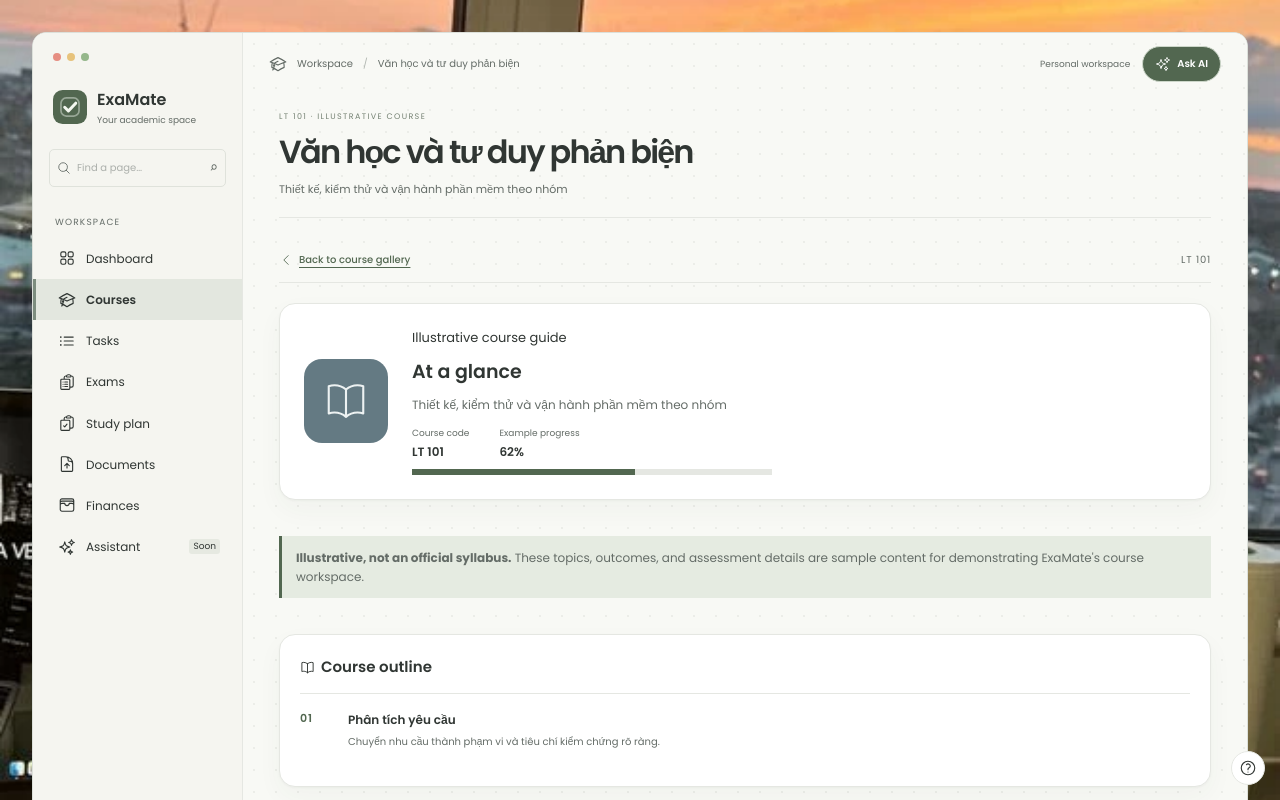
Test: Academic workspace › returns from a course detail to the gallery with a visible back link
The image size is (1280, 800).
Step 1. Click the link "Back to course gallery" → [345, 260], box [279,252,410,267]
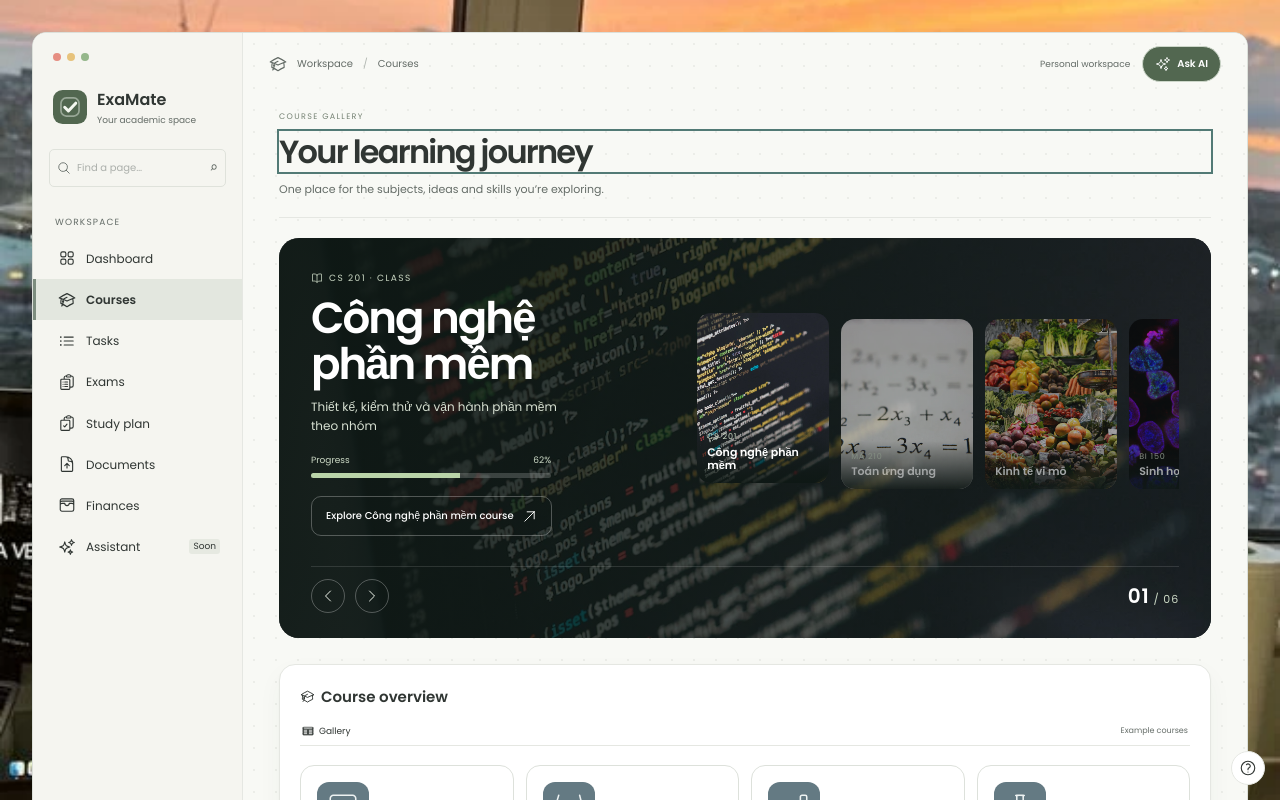
Now the heading "Your learning journey" is shown, box [279,129,592,174]
